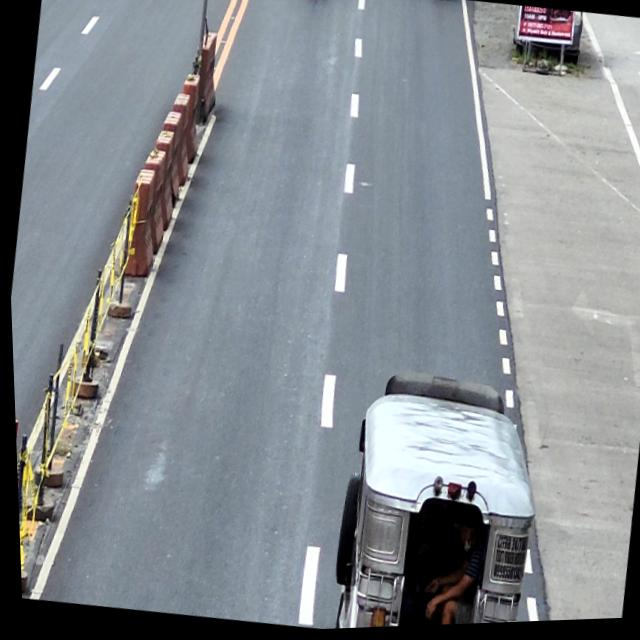Jeep: (315, 366, 549, 631)
